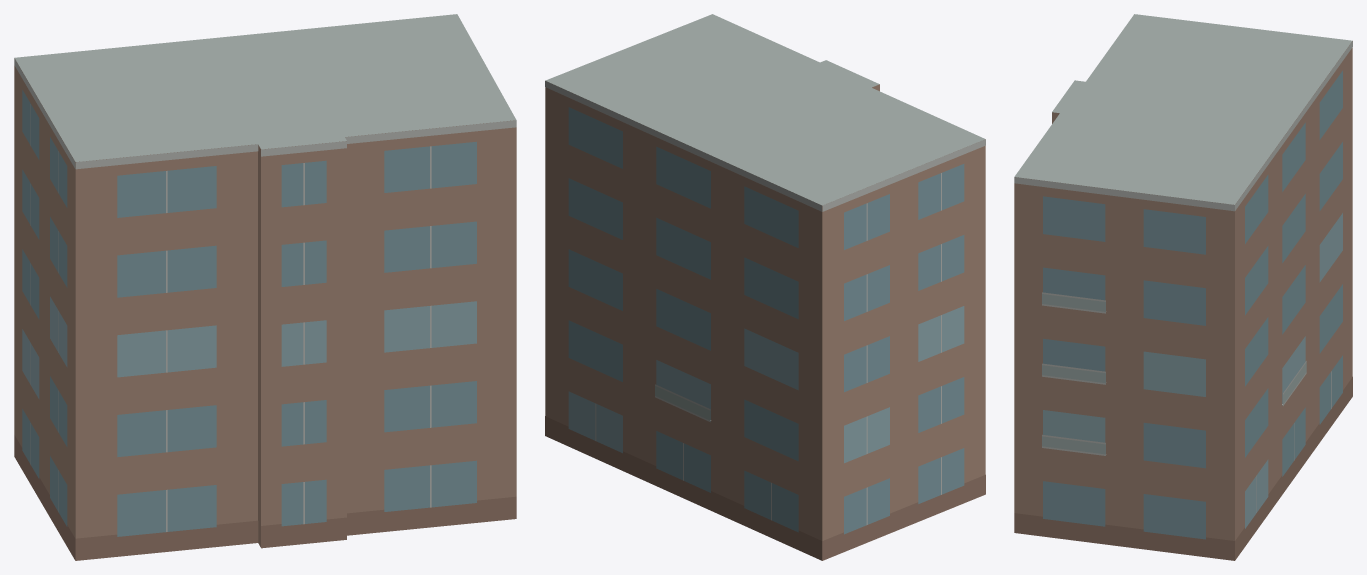
The model's file is survey-upis-32873357.glb.
3 renders of one model, left to right at view 1: azimuth 30°, elevation 25°; view 2: azimuth 150°, elevation 25°; view 3: azimuth 270°, elevation 25°, orthographic. The views are drawn at different scales.
Parts seen in each view (by area): view 1: survey-upis-32873357.tmp; view 2: survey-upis-32873357.tmp; view 3: survey-upis-32873357.tmp.
Part boxes in pixels (<box>): survey-upis-32873357.tmp: <box>14,14,516,560</box>; survey-upis-32873357.tmp: <box>545,14,985,560</box>; survey-upis-32873357.tmp: <box>1014,14,1352,560</box>.
Bounding box in the file's own units: 15.53 × 13.5 × 11.64.
